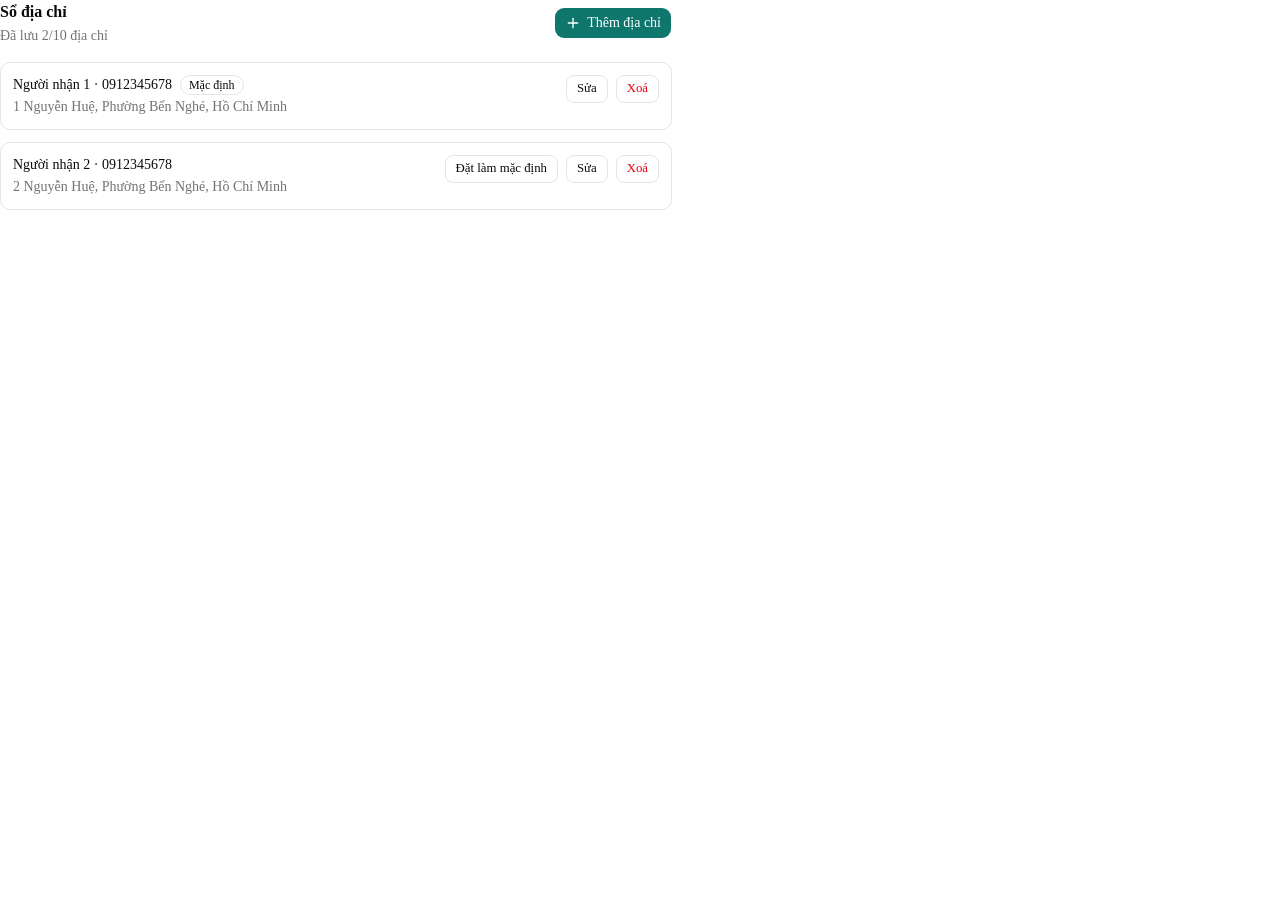
AddressBookContainer › xoá địa chỉ (phải xác nhận) › "Giữ lại" -> đóng hộp thoại và KHÔNG xoá
Click the button with aria-label "Xoá địa chỉ của Người nhận 2" at (637, 169), box 616,155 -> 659,183
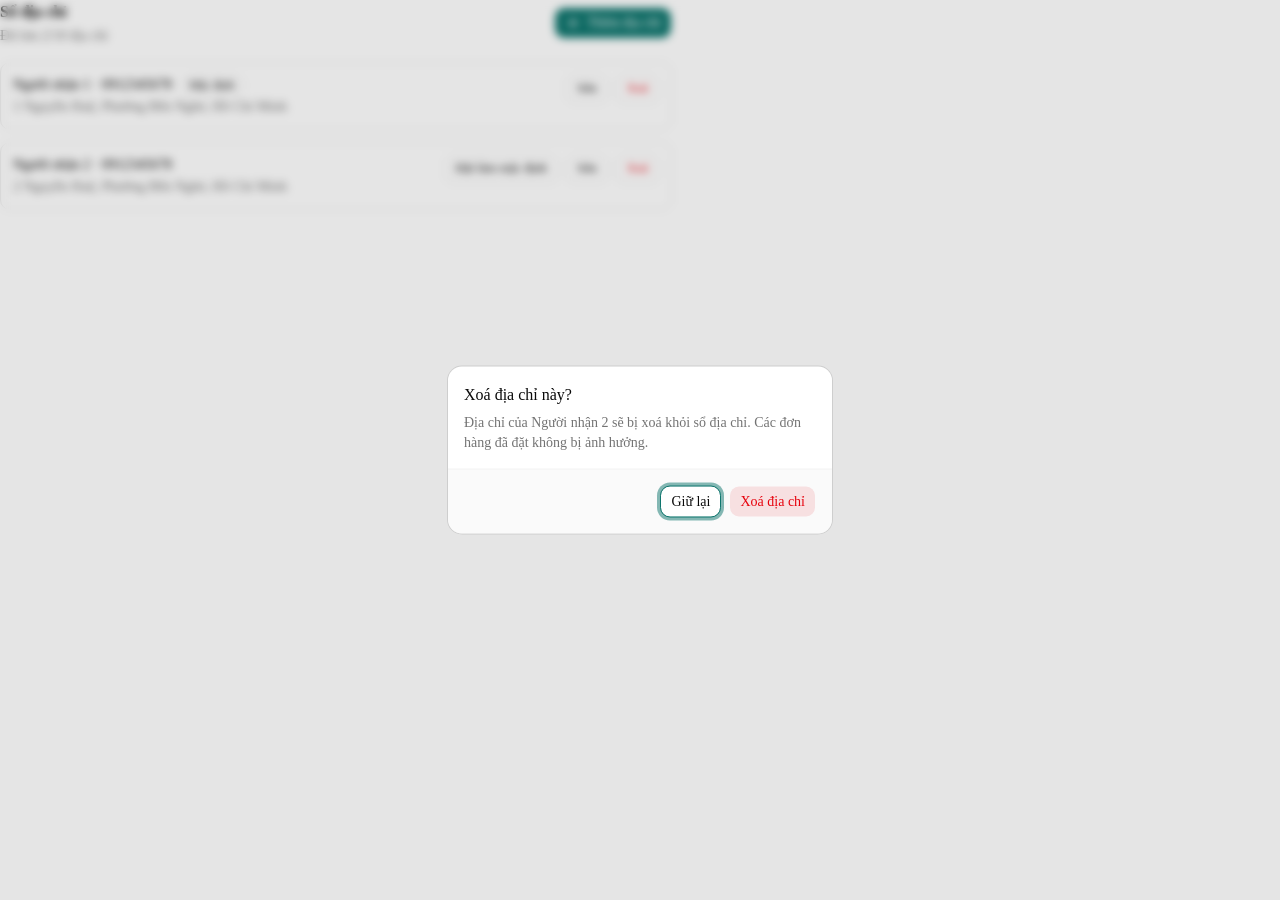
Click the button "Giữ lại" at (691, 502), box 660,486 -> 722,518
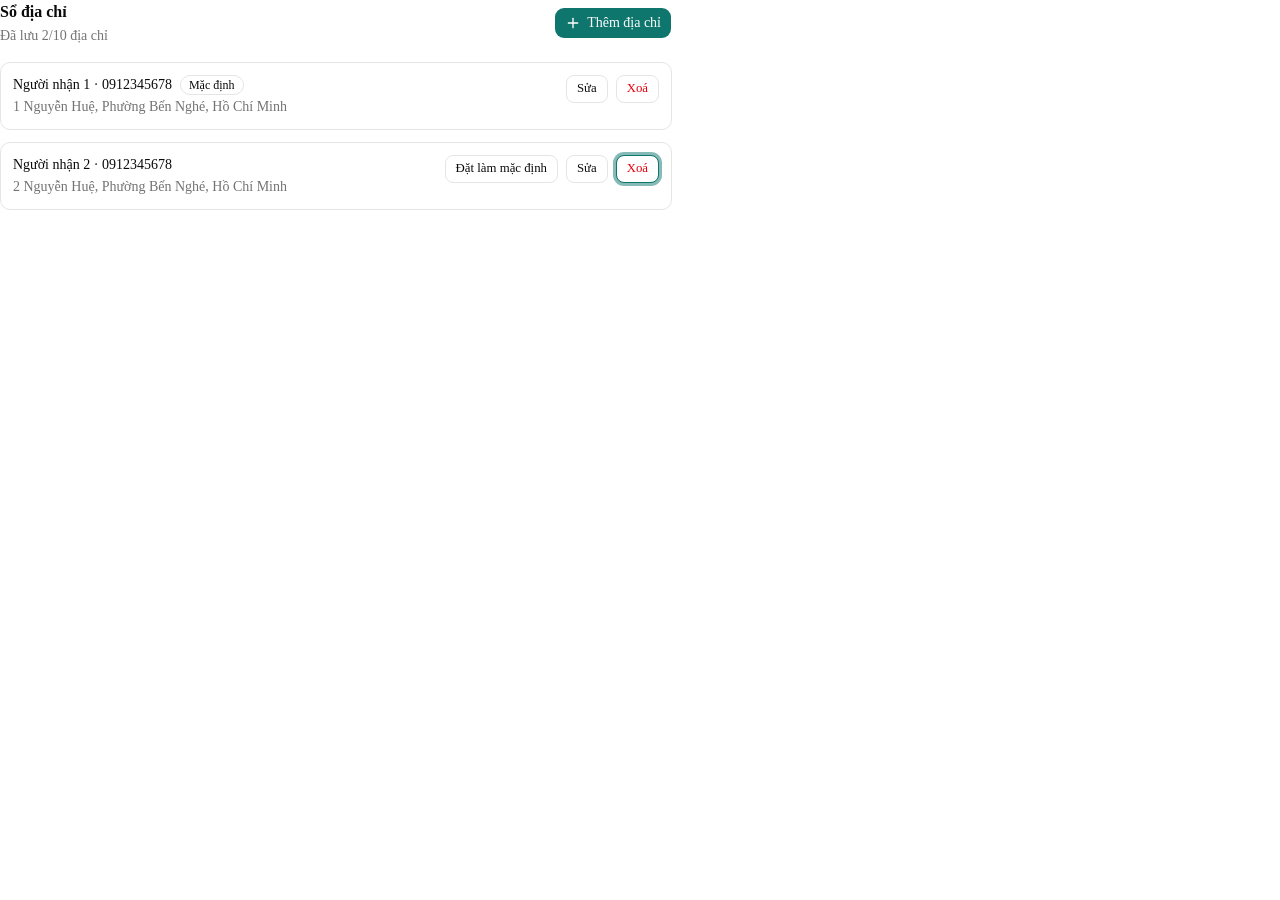
Now the heading "Xoá địa chỉ này?" is gone
